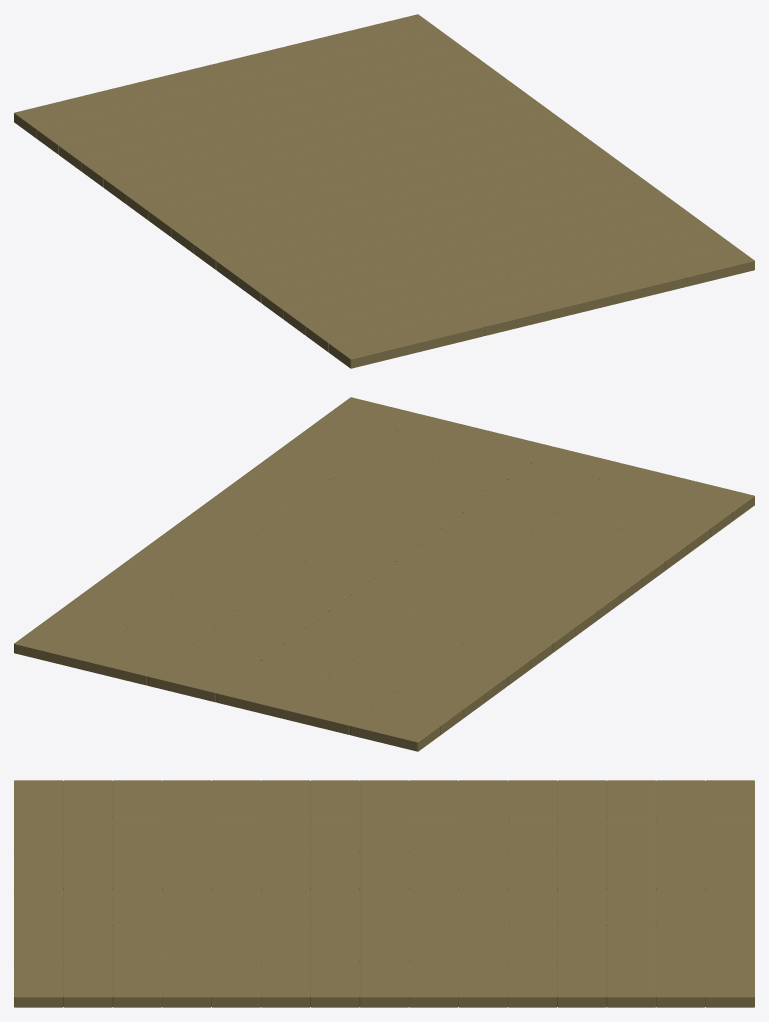
The model's file is floor.fbx.
3 renders of one model, top to bottom at view 1: azimuth 30°, elevation 25°; view 2: azimuth 150°, elevation 25°; view 3: azimuth 270°, elevation 25°, orthographic. The views are drawn at different scales.
Visible parts, largest first — view 1: Plane.012; view 2: Plane.012; view 3: Plane.012.
Boxes of the visible parts, box(x1,y1,x2,y2) form: Plane.012: box(14, 14, 754, 368); Plane.012: box(14, 397, 754, 751); Plane.012: box(14, 780, 754, 1007).
Size of the model in its own units: 750 by 16.76 by 1083.
